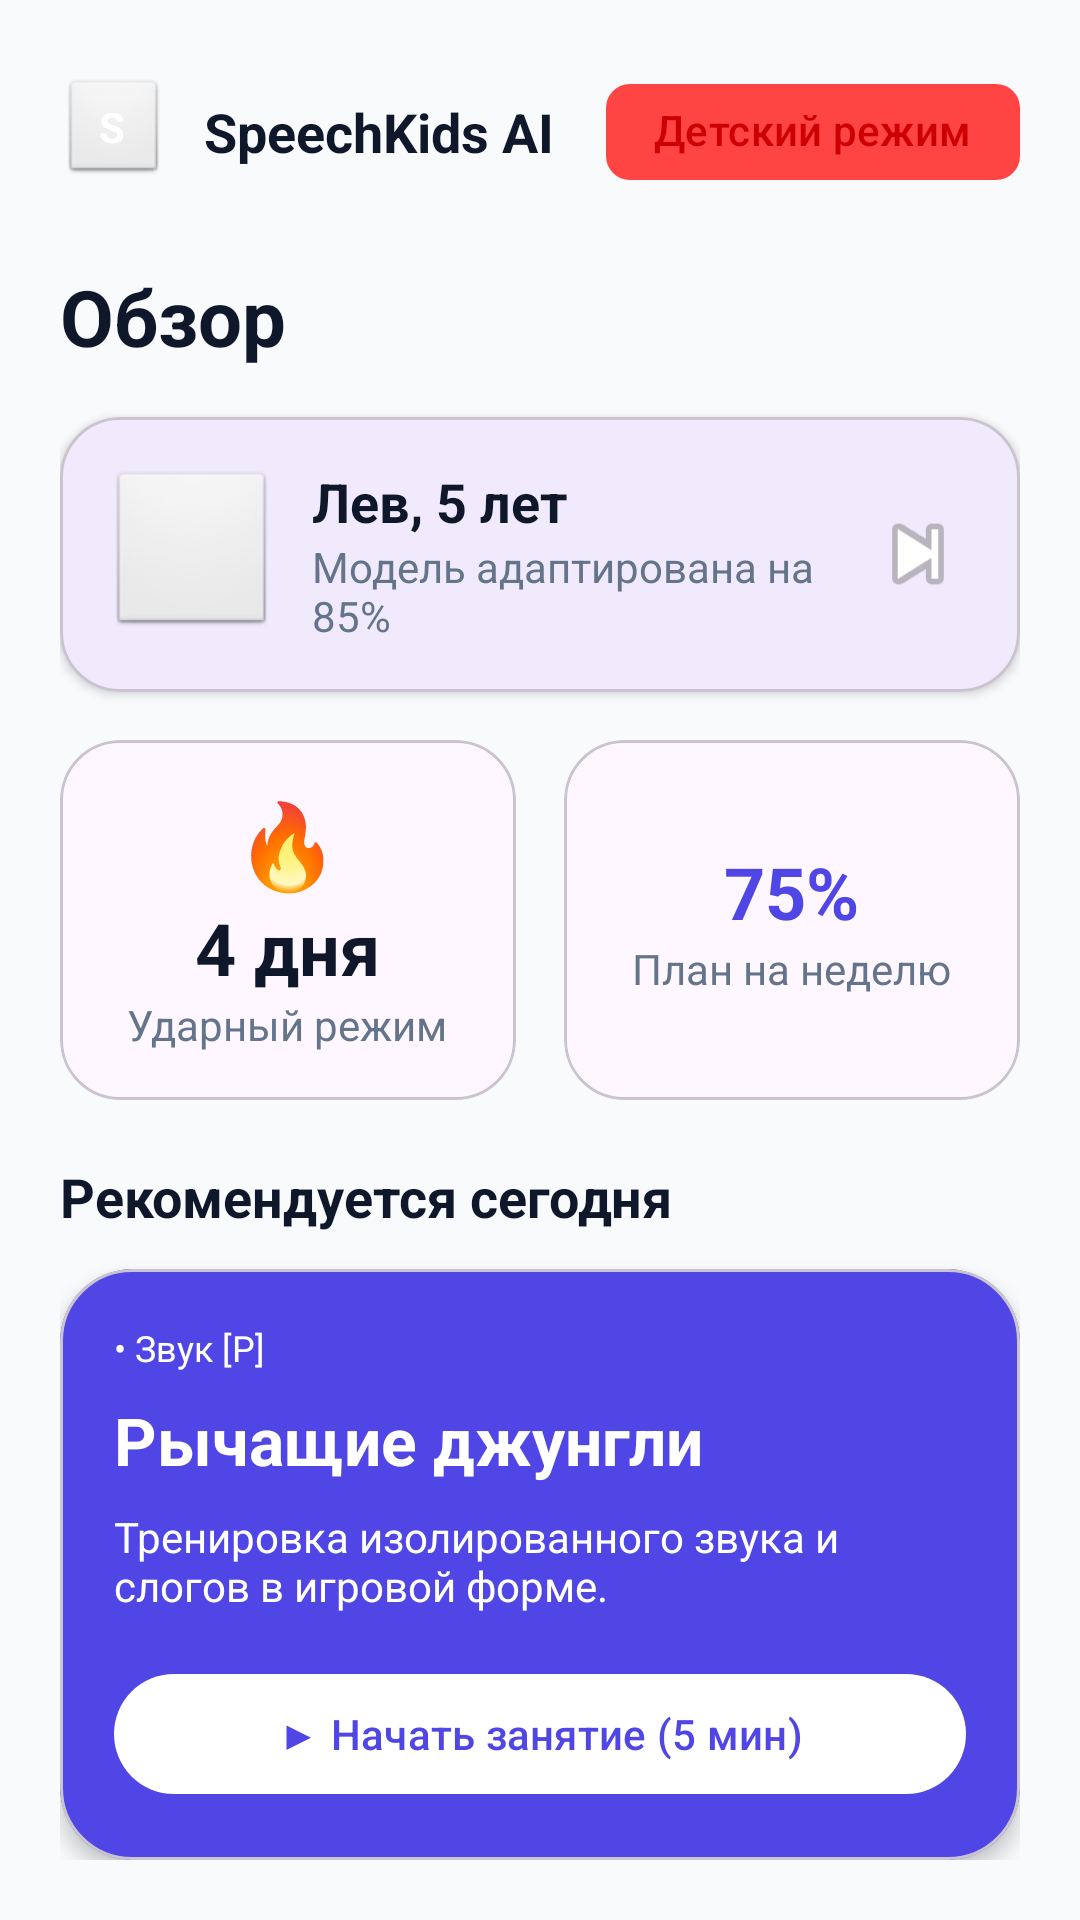

Named icons in this screenshot (1080w x 1920h) and their bounding boxes, (x1, y1, x2, y2):
next: (892, 523, 944, 585)
